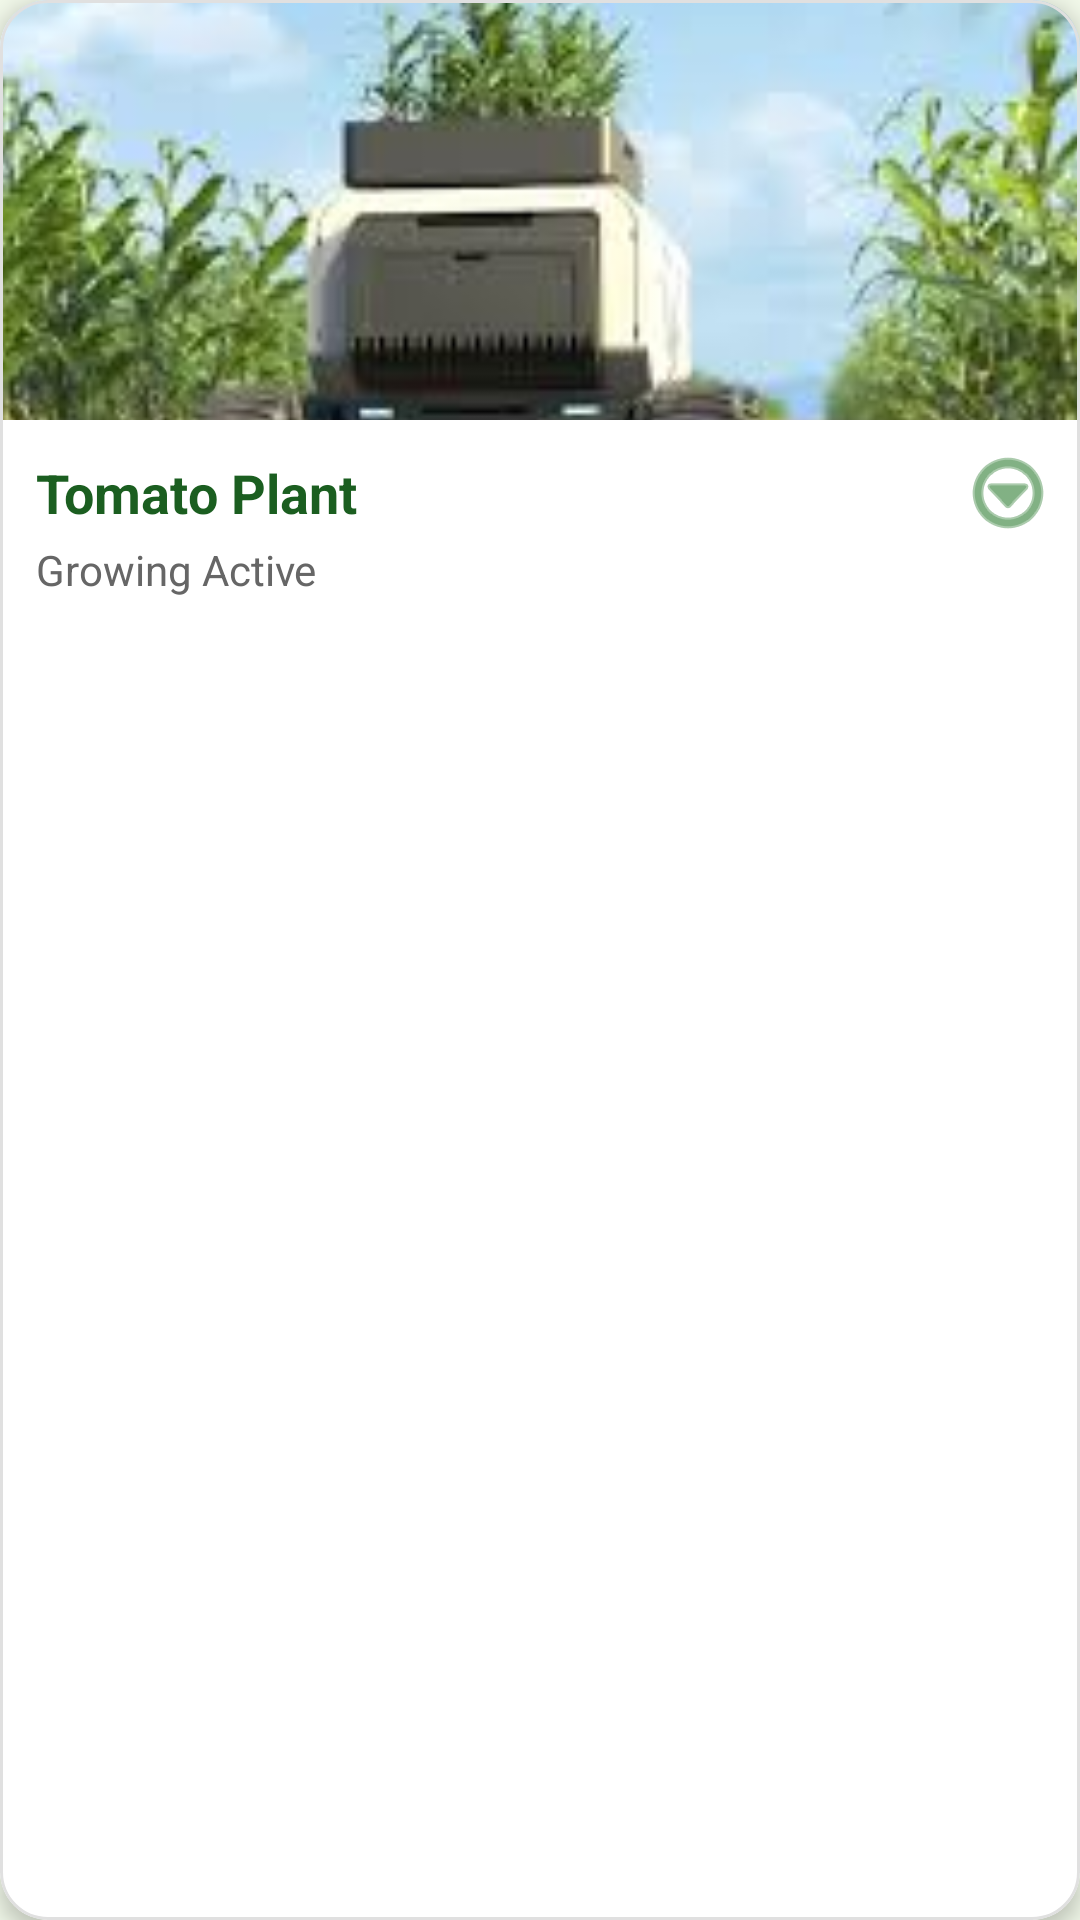

Screen size 1080x1920. Icon name, then its box in pixels as (x1, y1, x2, y2):
more: (972, 458, 1044, 529)
